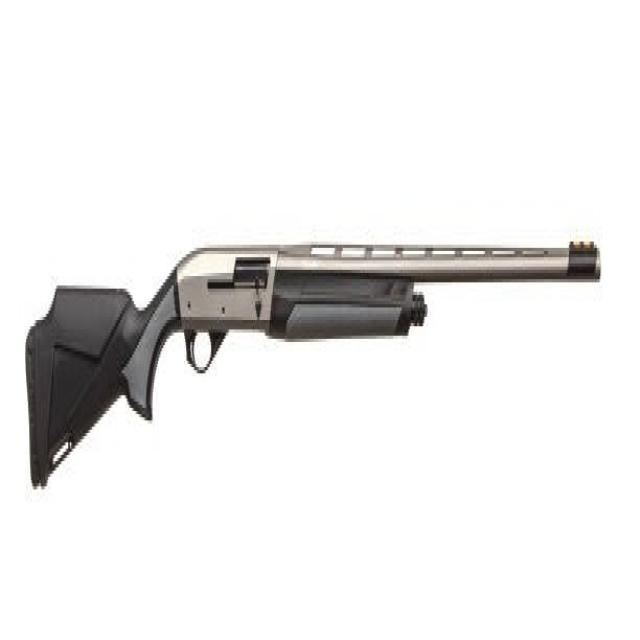rifle: (19, 218, 606, 507)
